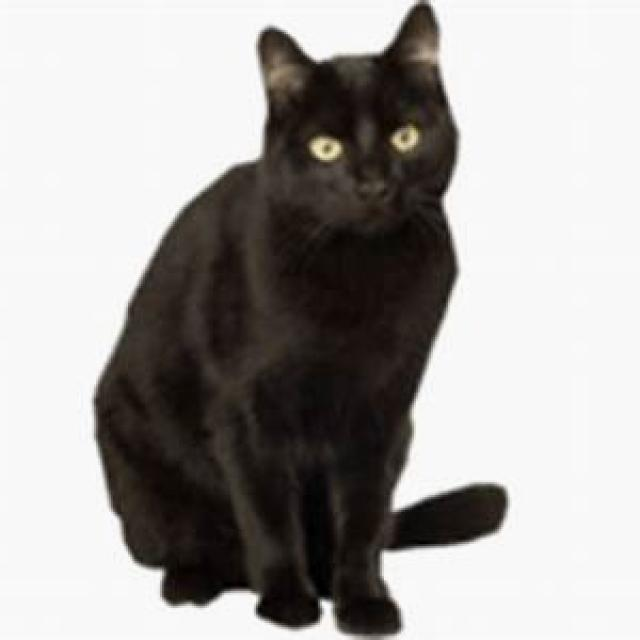KEDI: (98, 0, 508, 619)
